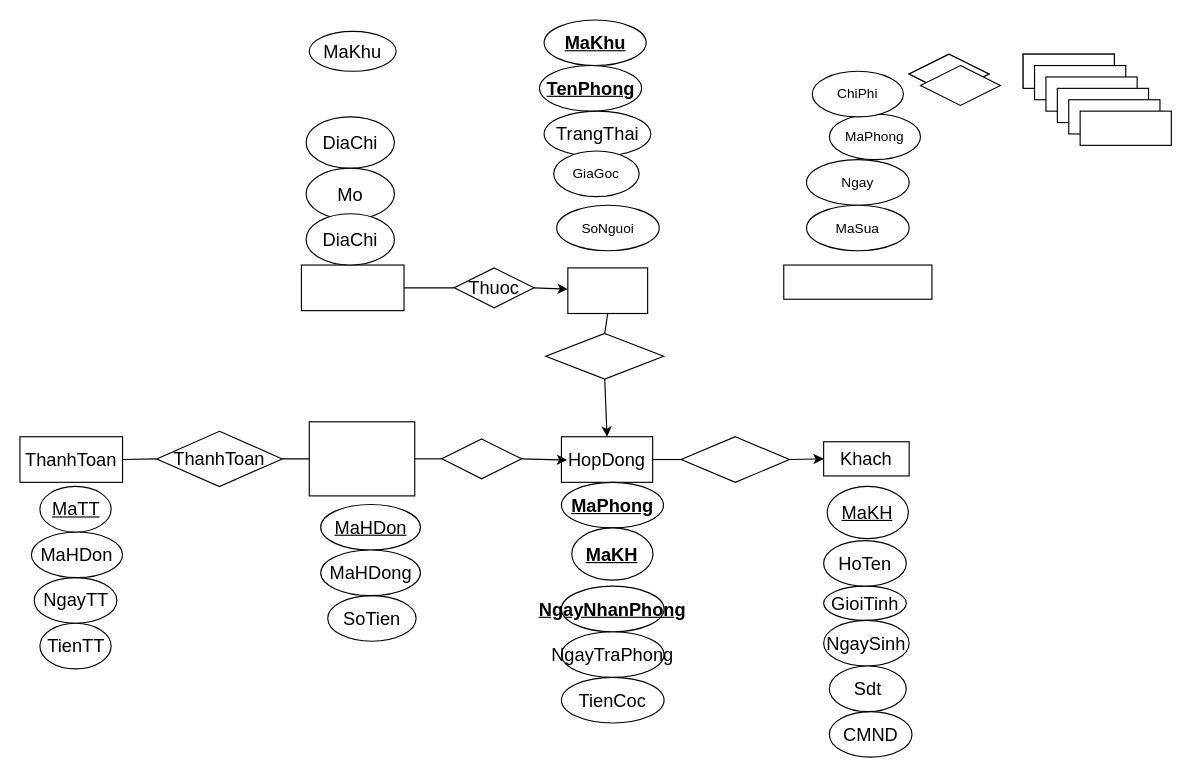
Image size: 1191x777. Some labels were removed from this diagram. The centre of each missing label's shape, as x and y in pixels:
"BaoTri" goes at point (857, 281).
"ChoThue" goes at point (604, 355).
"Co" goes at point (481, 458).
"DangKi" goes at point (734, 459).
"HoaDon (hang thang)" goes at point (361, 458).
"Khu" goes at point (352, 287).
"Phong" goes at point (607, 290).
